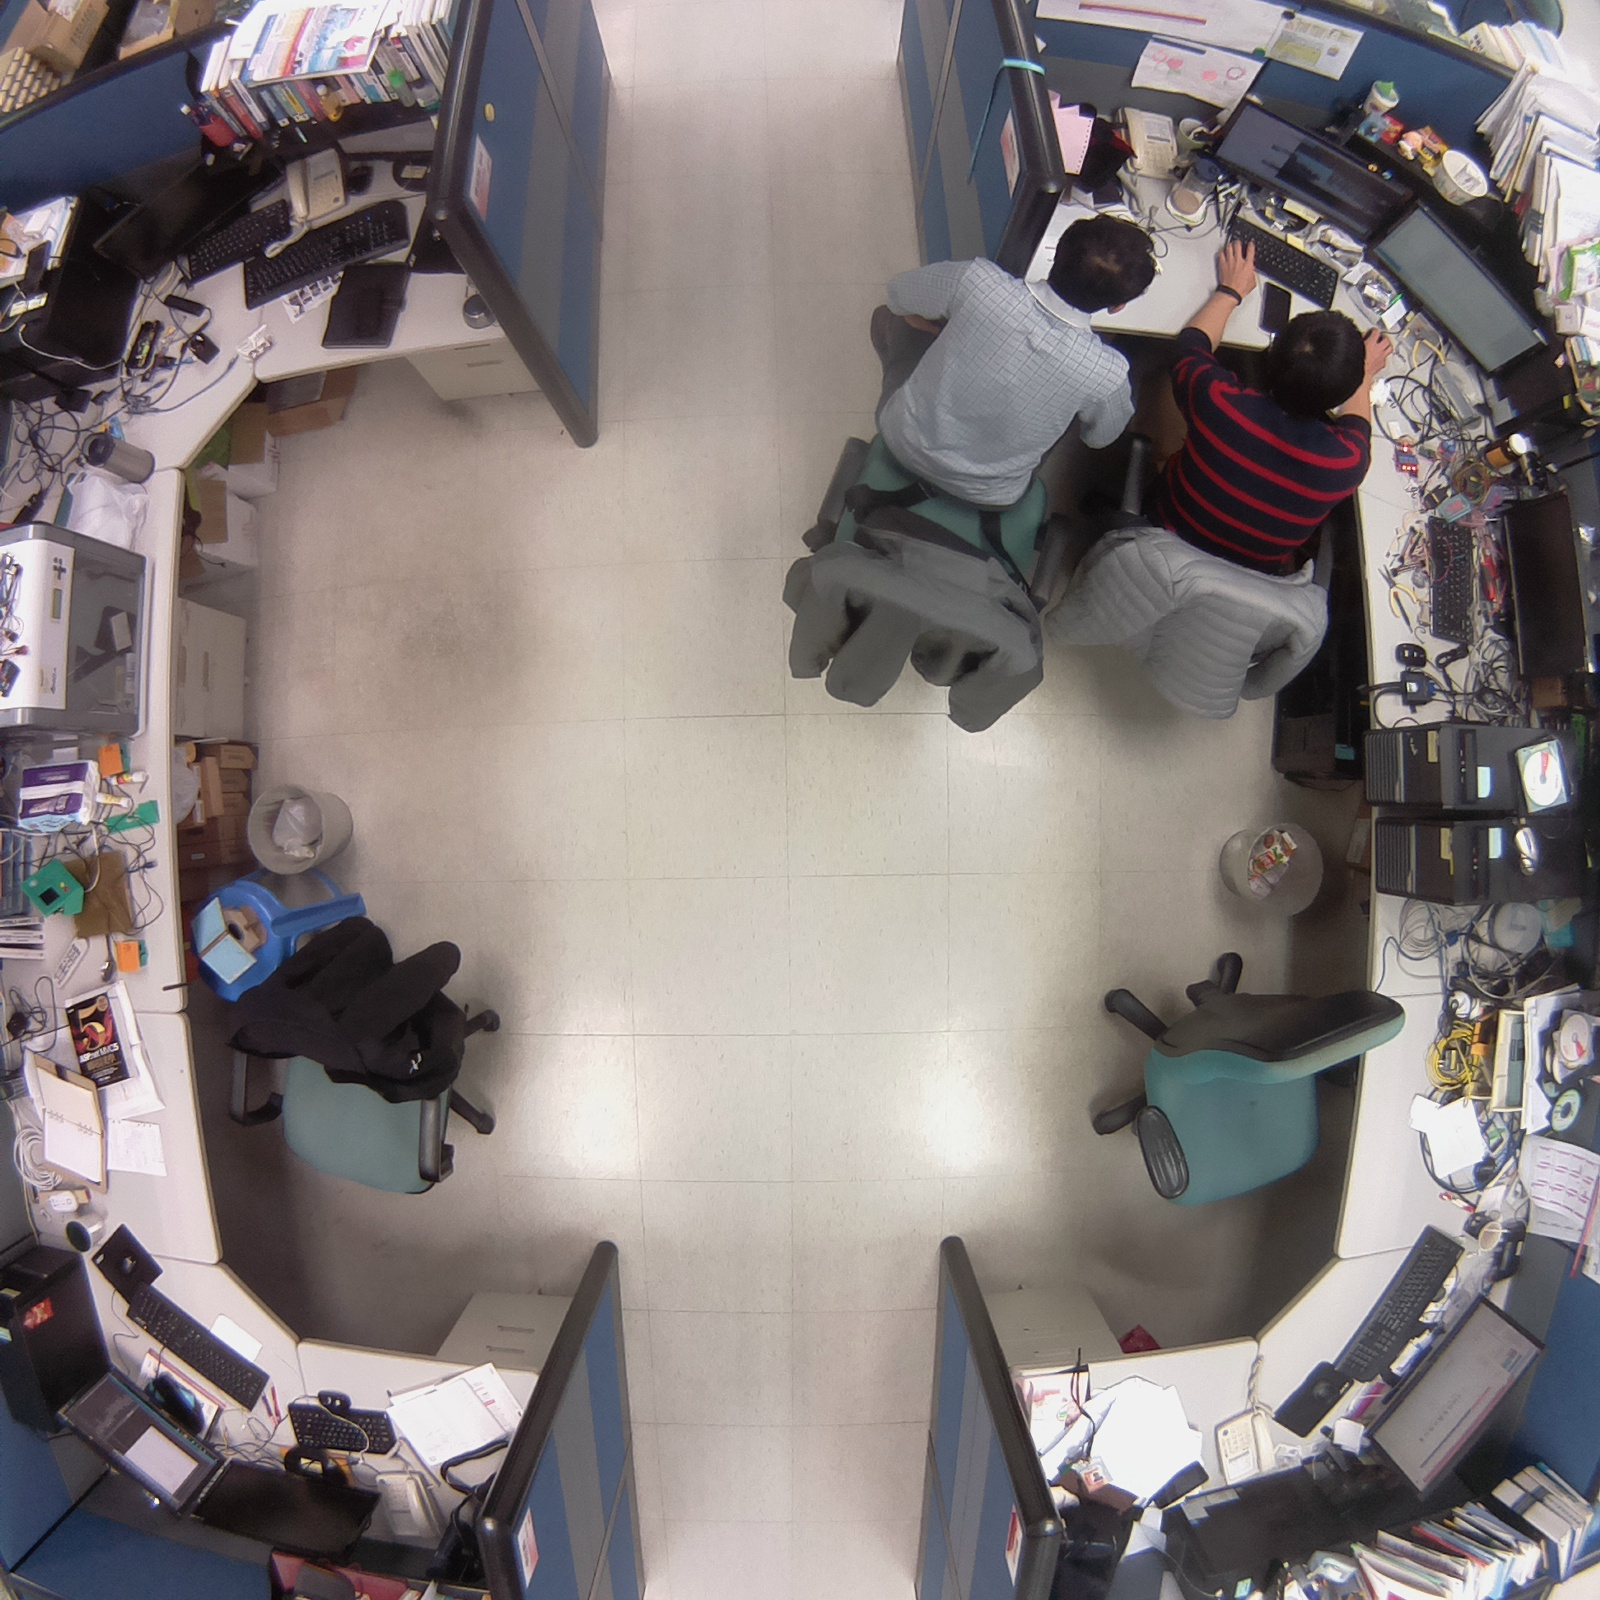chair: (1076, 924, 1427, 1222), (201, 906, 529, 1214)
head: (1257, 300, 1376, 419), (1044, 210, 1163, 325)
sitting: (750, 198, 1161, 745), (1045, 232, 1398, 729)
